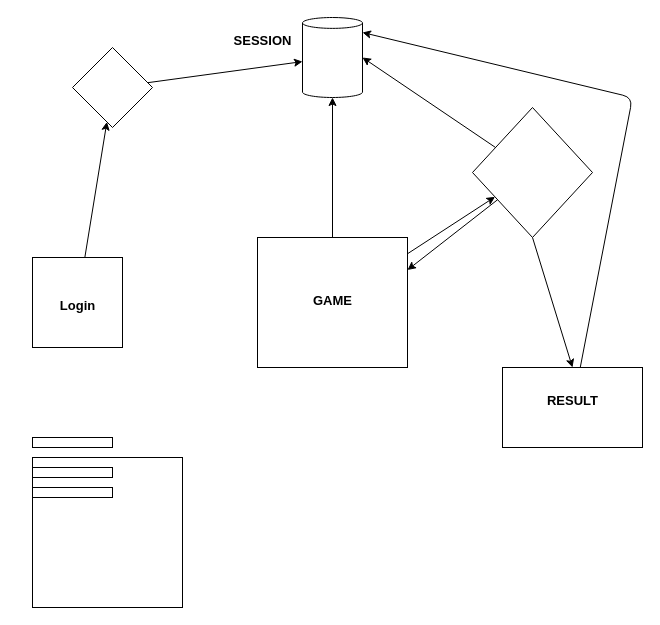
Image size: 660x625. Some labels were removed from this diagram. Each missing label, with the centre of its shape:
"F => GAME CONTROL" belongs at point (532, 172).
"F => LOGIN USER" belongs at point (112, 87).
